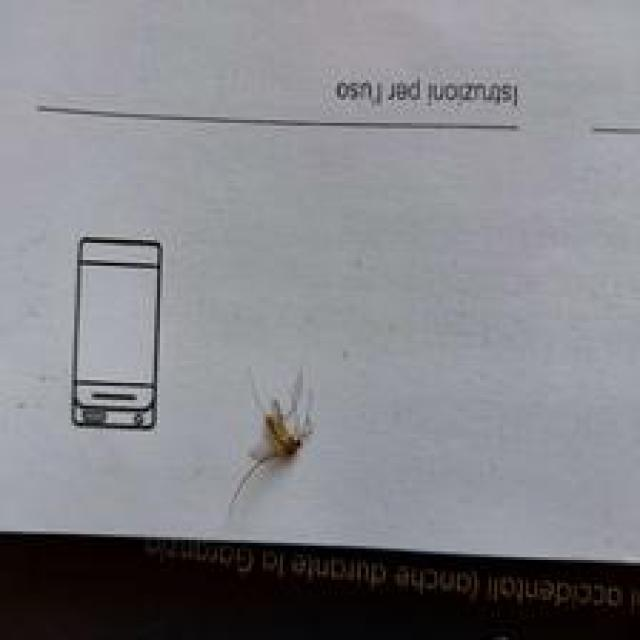Culex: (229, 363, 317, 508)
